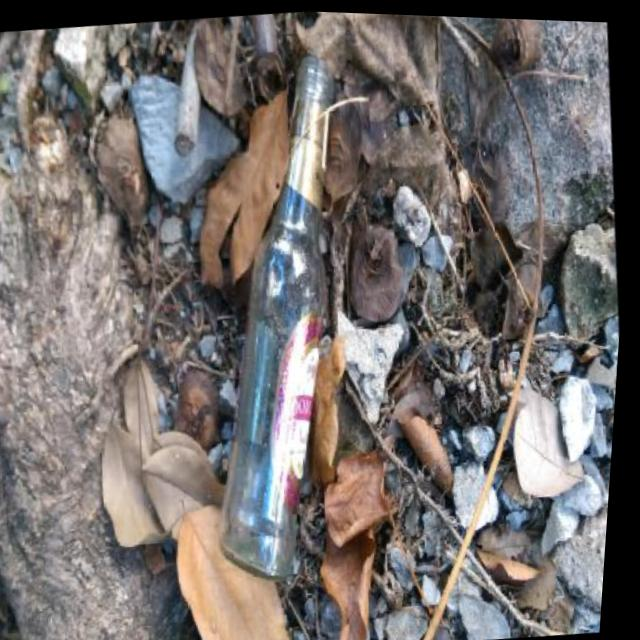glass: (164, 46, 390, 593)
